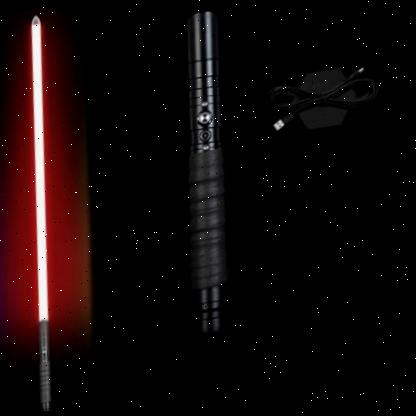sith_lightsaber: (0, 1, 108, 416)
